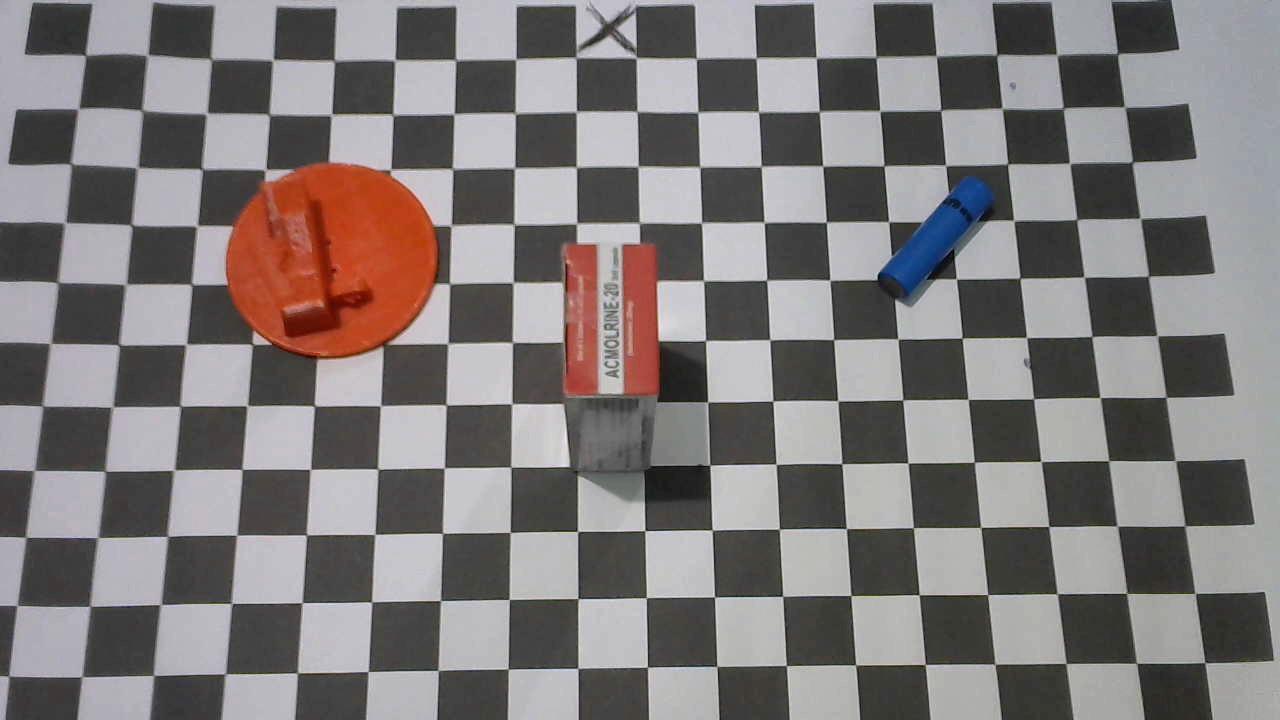green: (226, 163, 439, 358)
red: (562, 243, 658, 471)
yellow: (880, 177, 994, 302)
